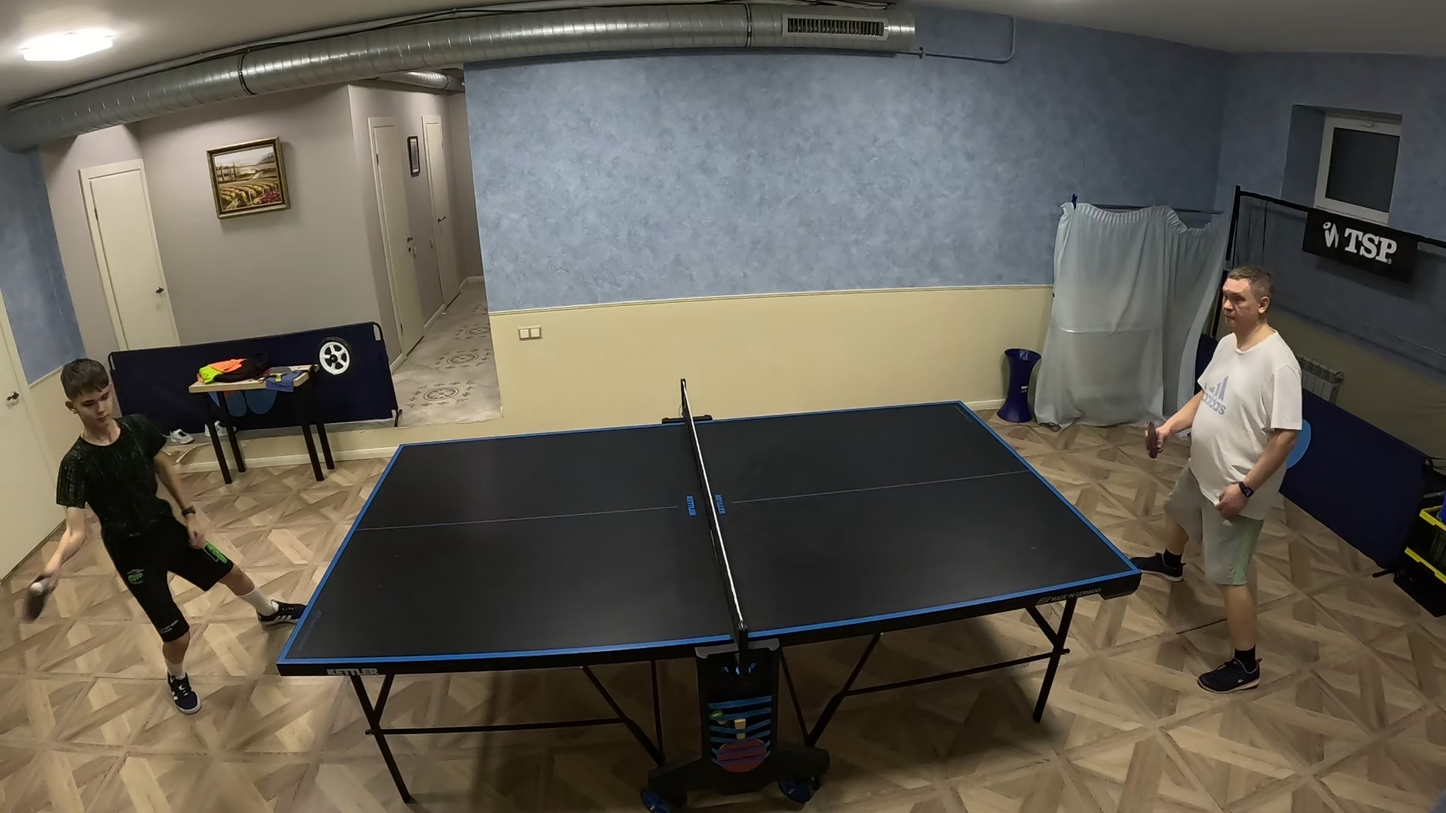Ball: (30, 582, 42, 596)
